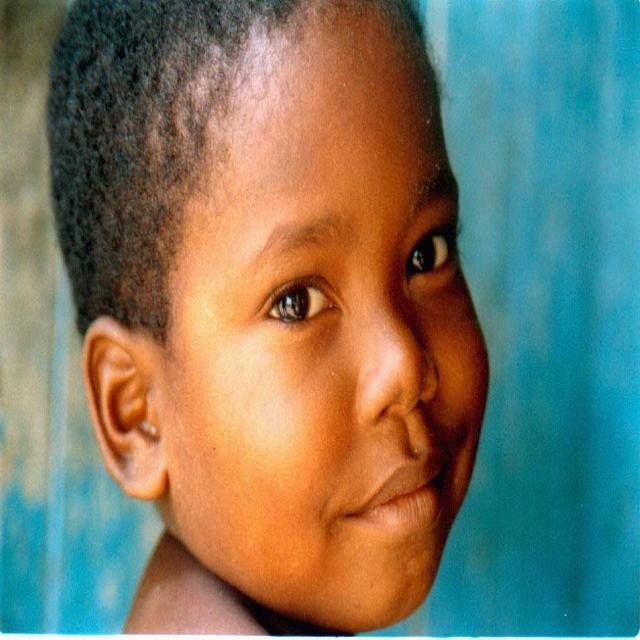no-glass: (262, 217, 454, 329)
